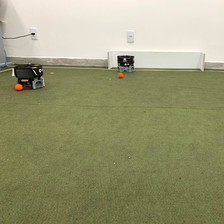ball: (13, 81, 25, 93), (116, 70, 124, 79)
goal: (106, 47, 206, 73)
robot: (12, 61, 47, 91), (114, 51, 136, 74)
